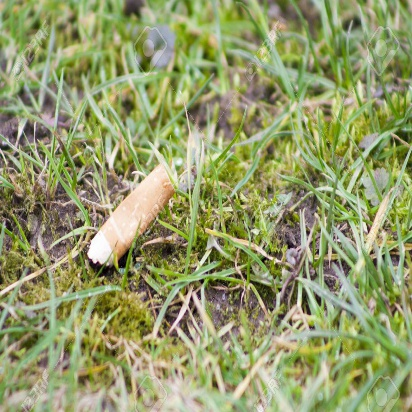cigarette: (90, 155, 180, 263)
